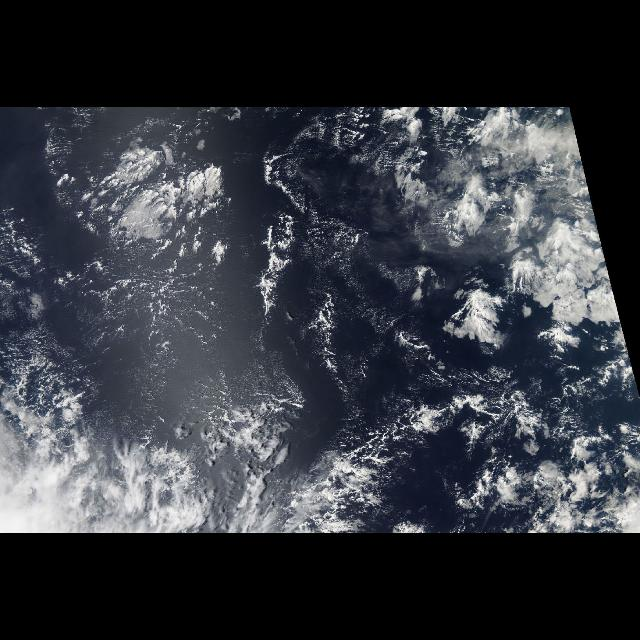Flower: (344, 110, 620, 520)
